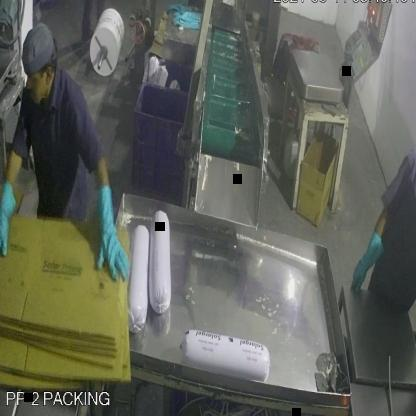glove: (91, 184, 128, 286), (345, 221, 387, 304), (0, 180, 18, 268)
